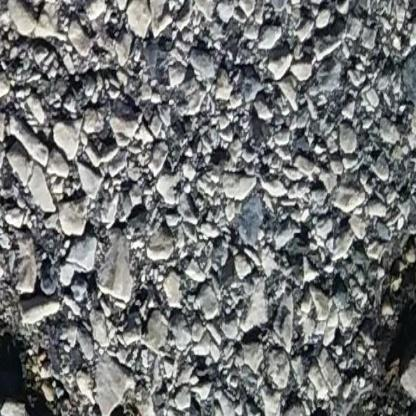Cracks: (217, 228, 416, 416), (0, 313, 88, 416), (108, 400, 158, 416)
